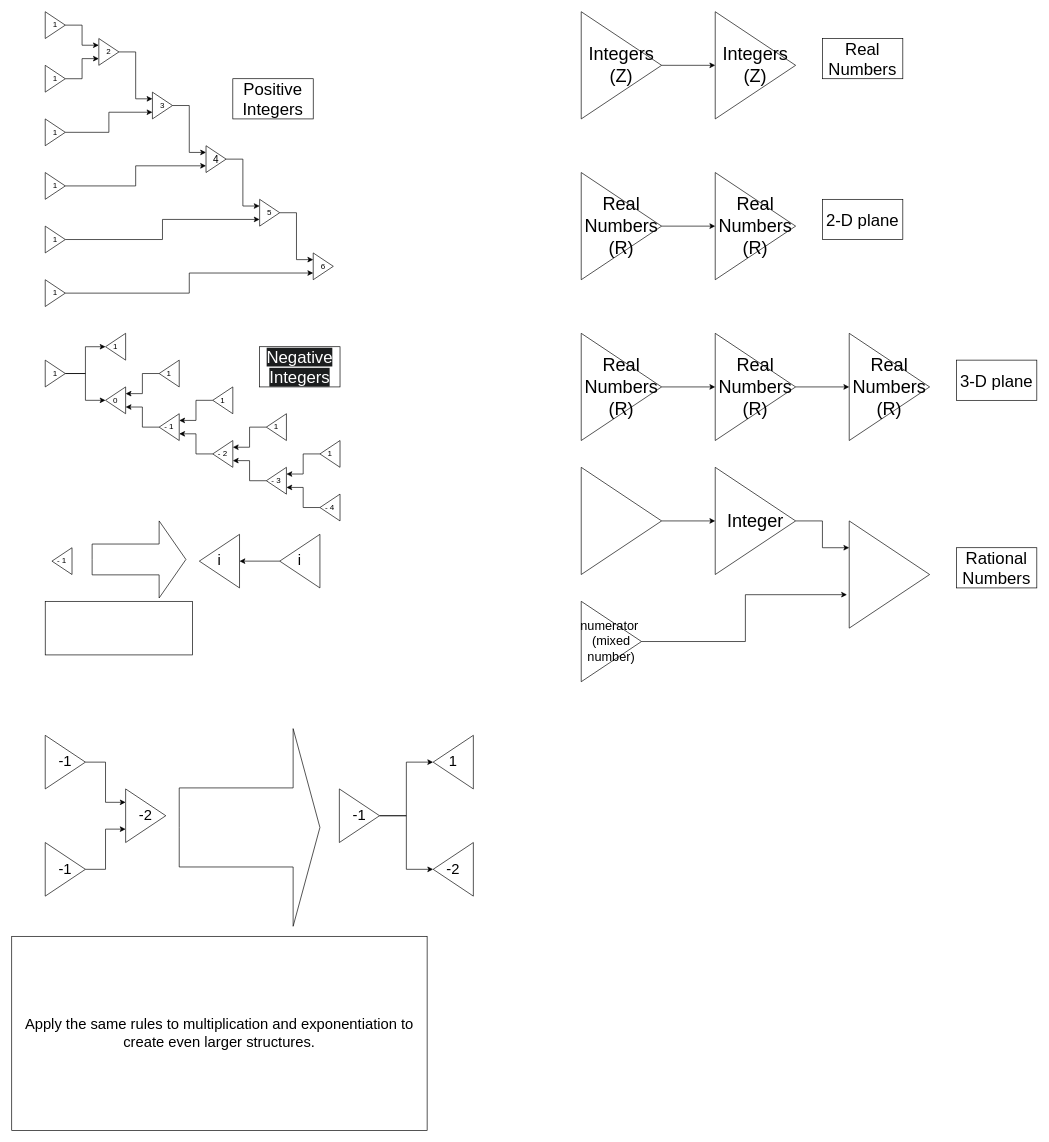
This 1049x1142 diagram has some shape labels left out. The shapes that lost their labels are listed below. From the top down, each one's box as (x1, y1, x2, y2) in pixels, then its label:
(581, 467, 662, 575): denominator
(91, 520, 186, 598): imaginary unit
(849, 520, 930, 628): numerator if converted to an integer
(45, 601, 193, 655): Complex Numbers Imaginary Unit (i)
(179, 728, 320, 926): addition of negative numbers is expressed as
